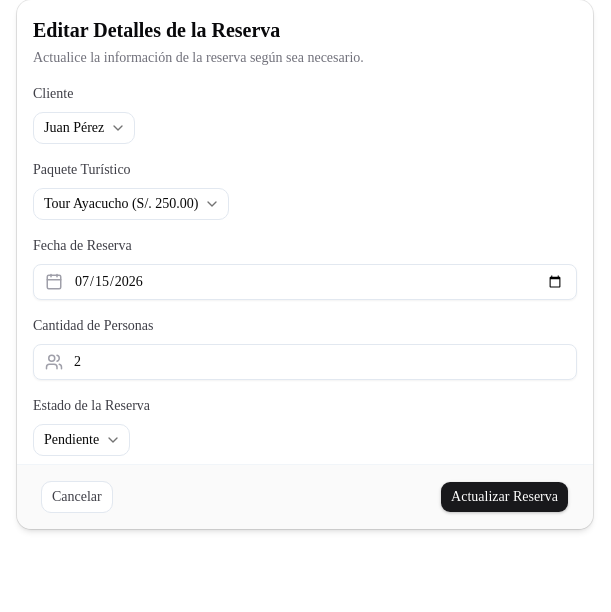
ReservationForm › muestra error si falla el submit
Click the button "Actualizar Reserva" at (505, 497), box [440,481,569,513]
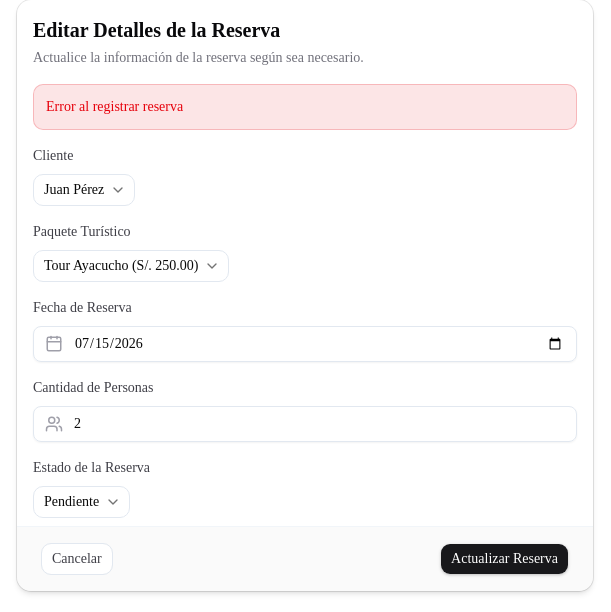
Check: the text "Error al registrar reserva" is shown, box [33,84,577,130]
